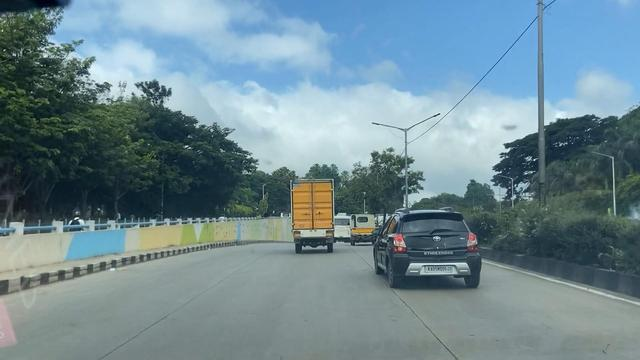HMV: (289, 178, 335, 254)
LMV: (366, 212, 474, 291)
